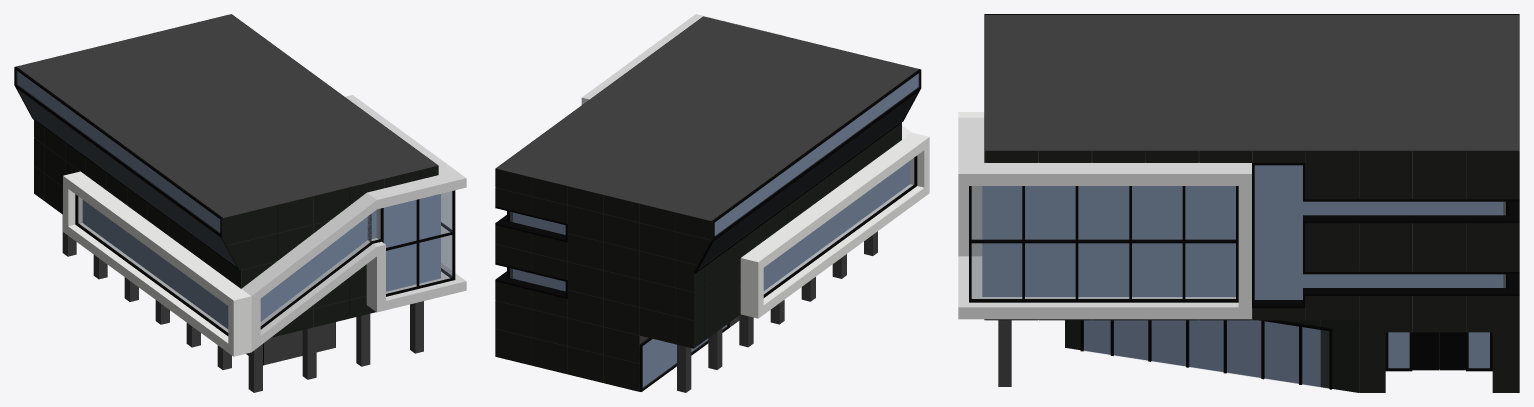
File: building-office.glb
3 views of the same model, side by side, from view 1: azimuth 30°, elevation 25°; view 2: azimuth 150°, elevation 25°; view 3: azimuth 270°, elevation 25° (orthographic). The views are drawn at different scales.
Parts seen in each view (by area): view 1: Object_4, Object_14, Object_13, Object_23; view 2: Object_4, Object_14, Object_23, Object_13; view 3: Object_4, Object_14, Object_13.
Boxes of the visible parts, x1,y1,x2,y2 form: Object_4: (14, 14, 466, 392); Object_14: (16, 70, 452, 331); Object_13: (17, 71, 440, 328); Object_23: (63, 171, 251, 356); Object_4: (495, 14, 921, 392); Object_14: (510, 73, 919, 388); Object_23: (740, 132, 929, 318); Object_13: (513, 73, 918, 387); Object_4: (958, 14, 1519, 392); Object_14: (972, 165, 1505, 388); Object_13: (982, 165, 1503, 386).
Size of what is drawn, in the model's own units: 13.1 by 10 by 21.02.
Materials: 4 (4 with a texture image).
